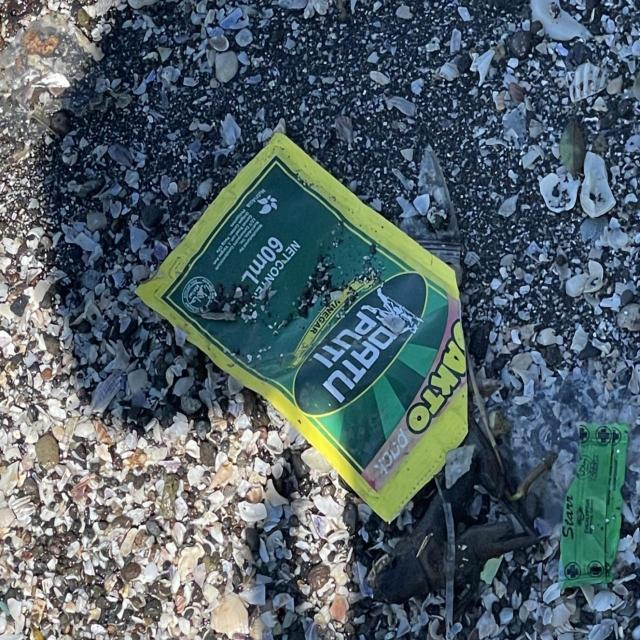plastic_waste: (135, 133, 480, 527), (558, 423, 628, 585)
